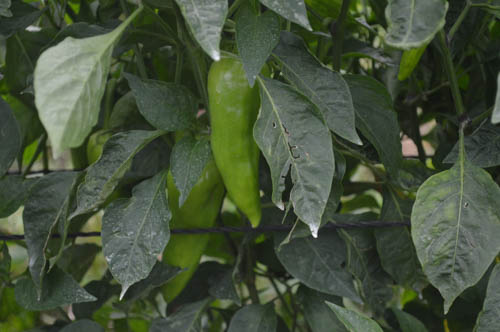ChiliPepper: (206, 60, 264, 223), (160, 156, 223, 304)
